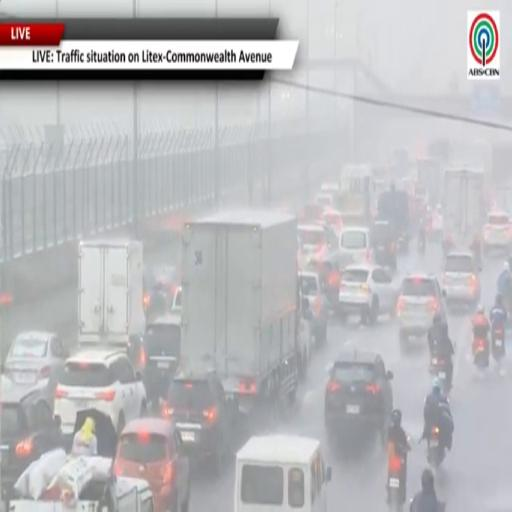car: (54, 347, 146, 435), (0, 376, 62, 502), (161, 373, 233, 474), (115, 419, 190, 511), (325, 350, 393, 442), (2, 331, 68, 408), (338, 265, 398, 324), (396, 274, 446, 342), (143, 314, 181, 403), (304, 253, 353, 311), (298, 271, 330, 345), (443, 251, 480, 307), (143, 266, 180, 318), (297, 223, 332, 267), (370, 219, 396, 270), (297, 303, 314, 377), (339, 227, 372, 263), (483, 212, 511, 252), (322, 208, 343, 236), (297, 202, 323, 223), (430, 205, 443, 239), (171, 285, 182, 314), (315, 191, 335, 206), (321, 183, 339, 194)
motorcycle: (387, 443, 405, 511), (430, 354, 452, 395), (427, 425, 444, 468), (473, 338, 489, 370), (492, 326, 504, 361), (418, 235, 425, 254), (409, 499, 416, 511)
truck: (181, 211, 299, 417), (78, 239, 145, 370), (444, 167, 485, 251), (336, 165, 374, 225), (417, 158, 443, 207)
